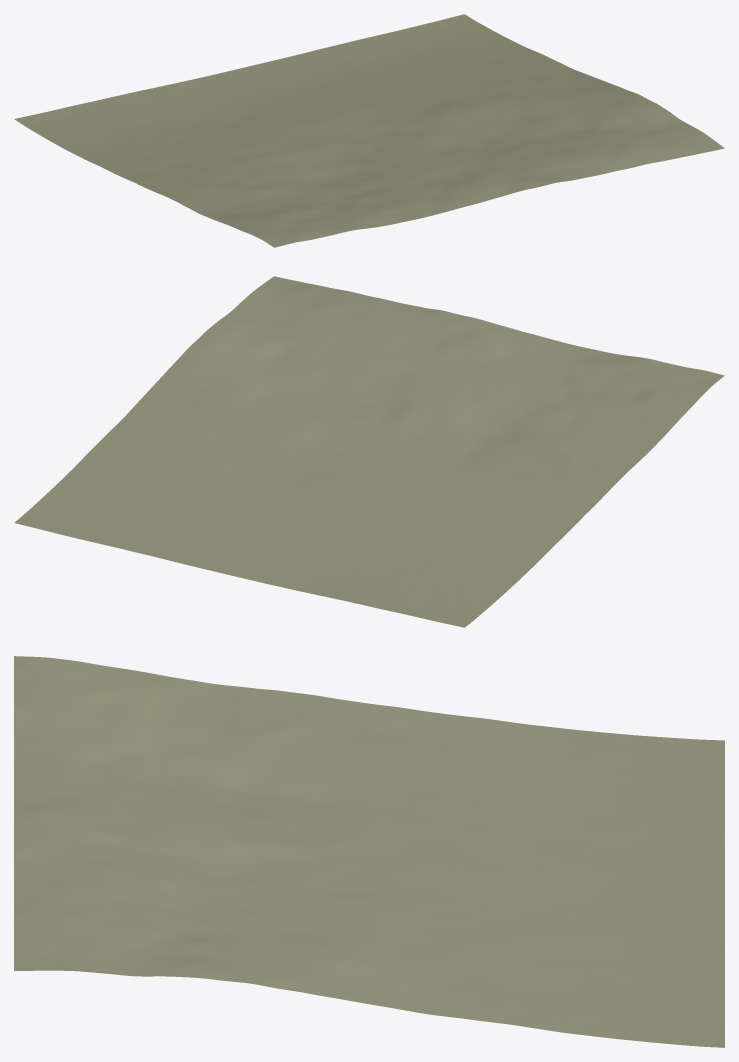
File: SM_VB_CityTerrain_1_6.fbx
3 renders of one model, top to bottom at view 1: azimuth 30°, elevation 25°; view 2: azimuth 150°, elevation 25°; view 3: azimuth 270°, elevation 25°, orthographic. The views are drawn at different scales.
Parts seen in each view (by area): view 1: SM_VB_CityTerrain_1_6; view 2: SM_VB_CityTerrain_1_6; view 3: SM_VB_CityTerrain_1_6.
Boxes of the visible parts, x1=… form: SM_VB_CityTerrain_1_6: x1=14, y1=14, x2=724, y2=247; SM_VB_CityTerrain_1_6: x1=14, y1=276, x2=724, y2=627; SM_VB_CityTerrain_1_6: x1=14, y1=656, x2=724, y2=1047.
Size of the model in its own units: 600 by 85.53 by 600.
